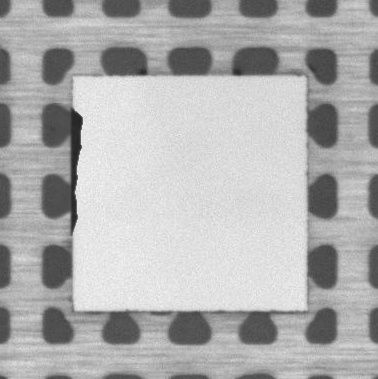DIE_BROKEN: (68, 107, 85, 236)
